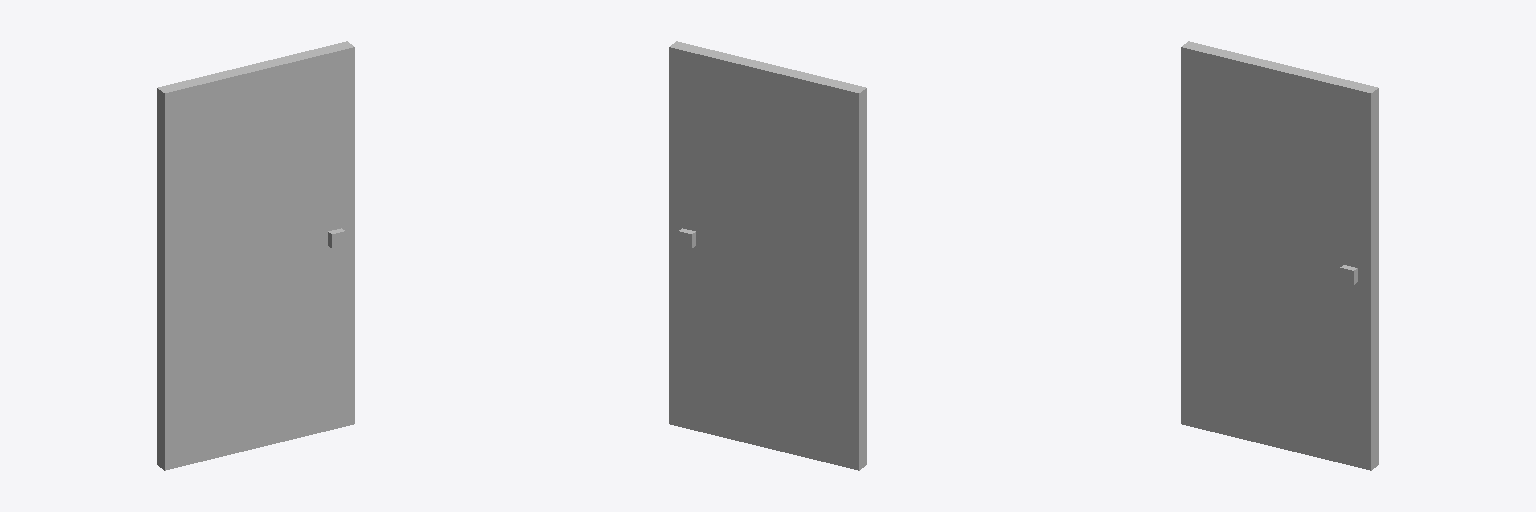
File: Door.obj
3 renders of one model, left to right at view 1: azimuth 30°, elevation 25°; view 2: azimuth 150°, elevation 25°; view 3: azimuth 330°, elevation 25°, orthographic.
Parts seen in each view (by area): view 1: cube; view 2: cube; view 3: cube.
Part boxes in pixels (bbox=[...]): cube: bbox=[157, 41, 354, 470]; cube: bbox=[669, 41, 866, 470]; cube: bbox=[1181, 41, 1378, 470].
Bounding box in the file's own units: 1.75 × 3.31 × 0.25.